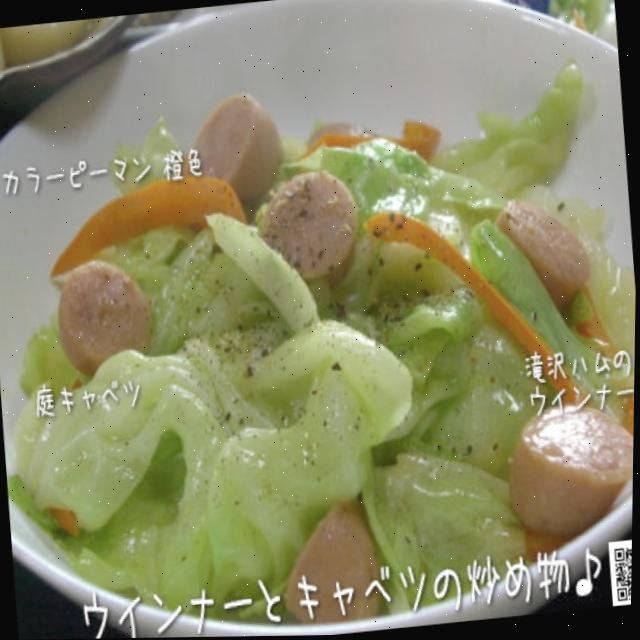蔬菜料理: (10, 13, 640, 594)
